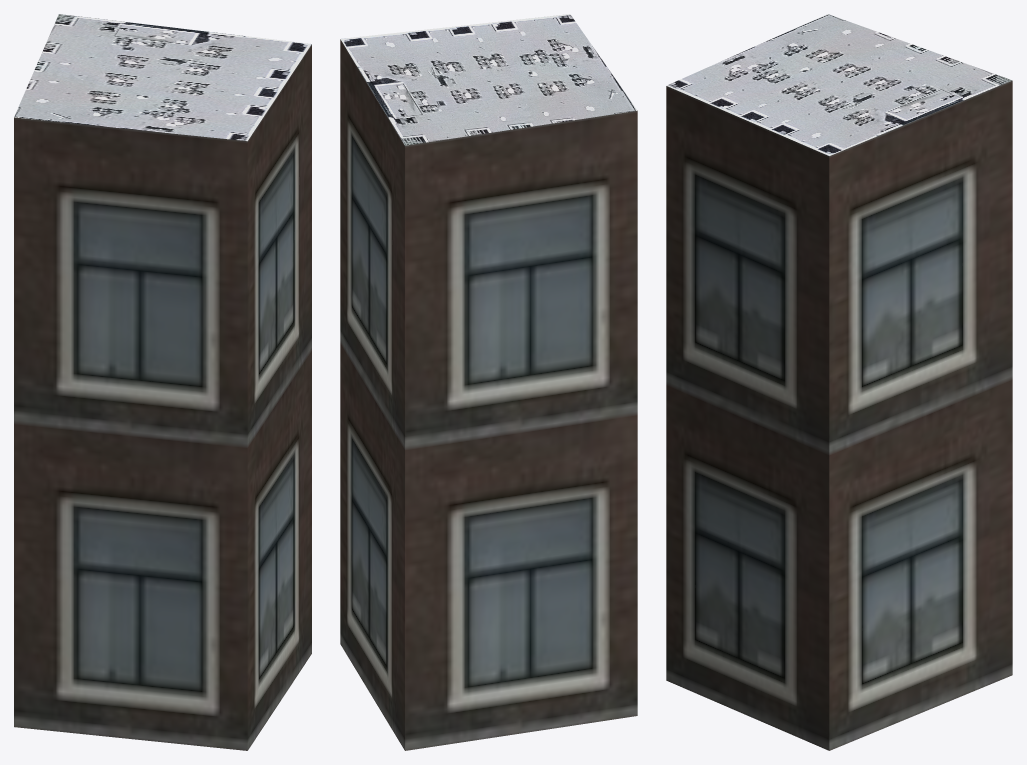
File: ResTex__1711.fbx
The picture shows the model from 3 angles, left to right: view 1: azimuth 30°, elevation 25°; view 2: azimuth 150°, elevation 25°; view 3: azimuth 270°, elevation 25°; orthographic projection. The views are drawn at different scales.
Parts seen in each view (by area): view 1: CityEngineMaterial_16_m, CityEngineMaterial_15_m; view 2: CityEngineMaterial_16_m, CityEngineMaterial_15_m; view 3: CityEngineMaterial_16_m, CityEngineMaterial_15_m.
Boxes of the visible parts, bbox=[...] form: CityEngineMaterial_16_m: bbox=[14, 44, 311, 750]; CityEngineMaterial_15_m: bbox=[14, 14, 311, 141]; CityEngineMaterial_16_m: bbox=[340, 39, 637, 750]; CityEngineMaterial_15_m: bbox=[340, 14, 637, 145]; CityEngineMaterial_16_m: bbox=[666, 80, 1012, 750]; CityEngineMaterial_15_m: bbox=[666, 14, 1012, 155].
Size of the model in its own units: 3.08 by 6 by 3.17.
2 materials, 2 textured.
